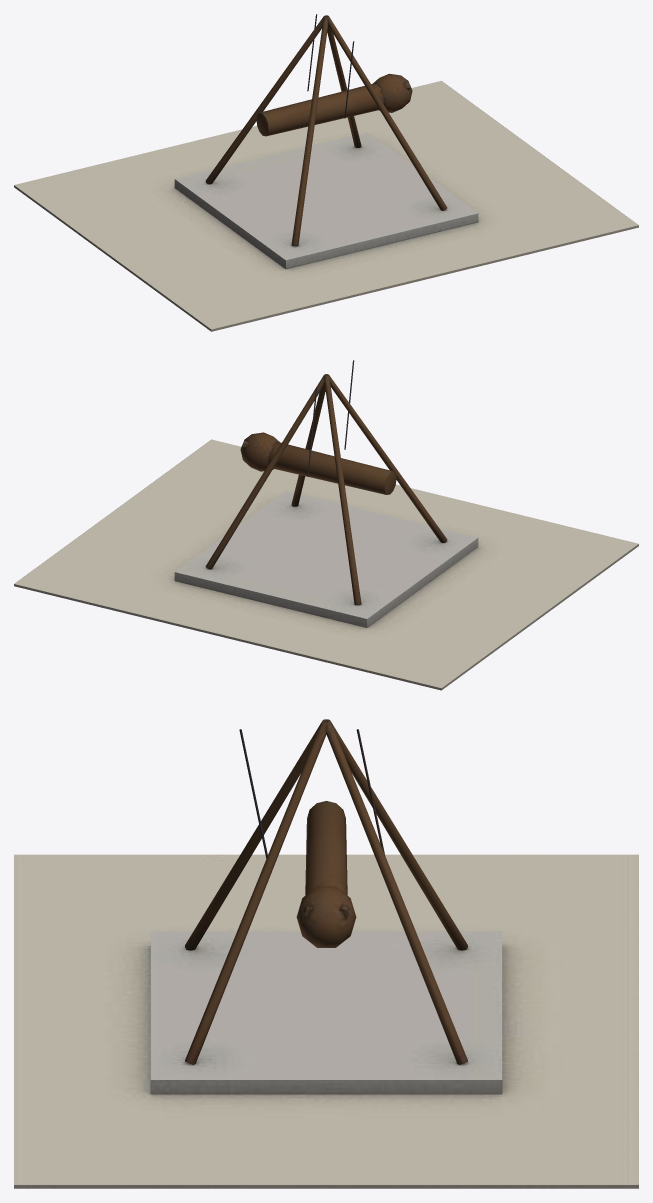
Rendered from puno_joe_louis.glb.
3 views of the same model, one above another, from view 1: azimuth 30°, elevation 25°; view 2: azimuth 150°, elevation 25°; view 3: azimuth 270°, elevation 25° (orthographic). The views are drawn at different scales.
Visible parts, largest first — view 1: puno_joe_louis; view 2: puno_joe_louis; view 3: puno_joe_louis.
Boxes of the visible parts, bbox=[...] form: puno_joe_louis: bbox=[14, 14, 638, 331]; puno_joe_louis: bbox=[14, 360, 638, 690]; puno_joe_louis: bbox=[14, 719, 638, 1188].
Size of the model in its own units: 20 by 8.55 by 16.
1 material, 1 textured.
